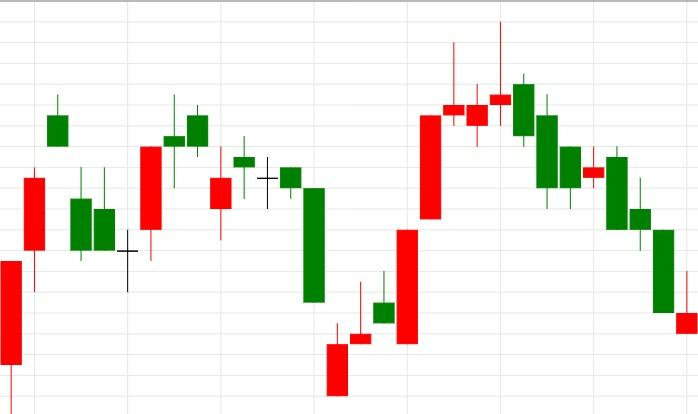inverse_hammer_rise: (514, 72, 698, 334)
morning_star_rise: (46, 94, 162, 292)
